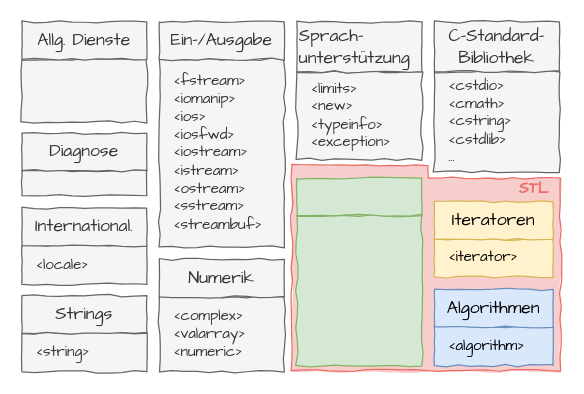
Some shapes in this 584 by 394 pixel diagram are drawn without their labels. Here are the shapes that lost their labels. From the top down, the centre of each, then its label:
the point at 84,90: <utility> <functional> <memory>
the point at 84,182: <stdexcept>
the point at 359,196: Container
the point at 359,290: <bitset> <dequeue> <list> <map> <queue> <set> <stack> <vector>
